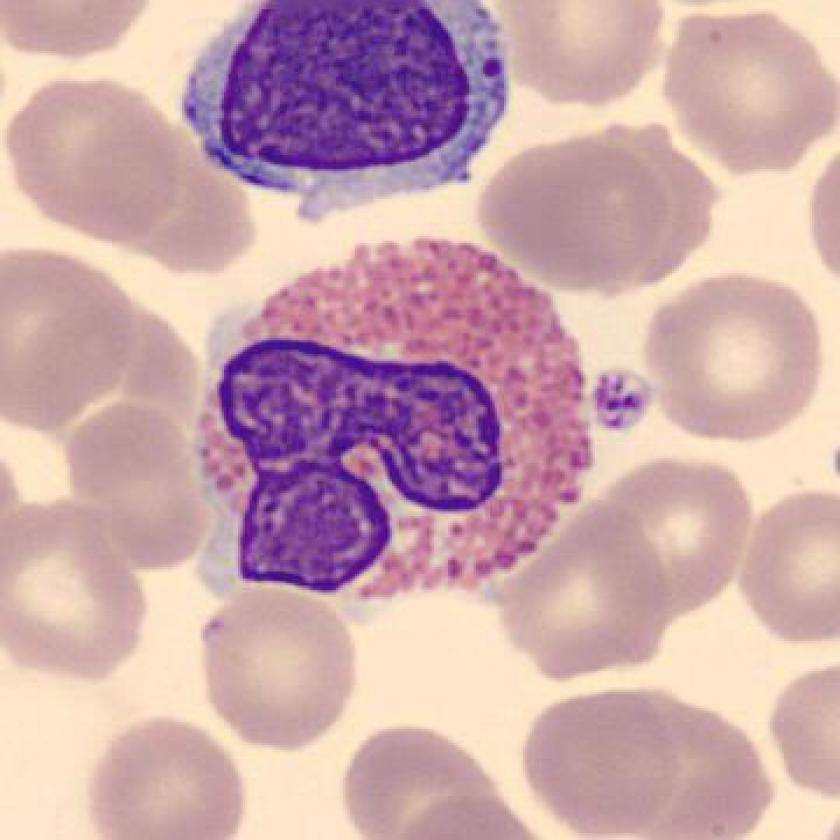eosinophil: (181, 230, 603, 628)
